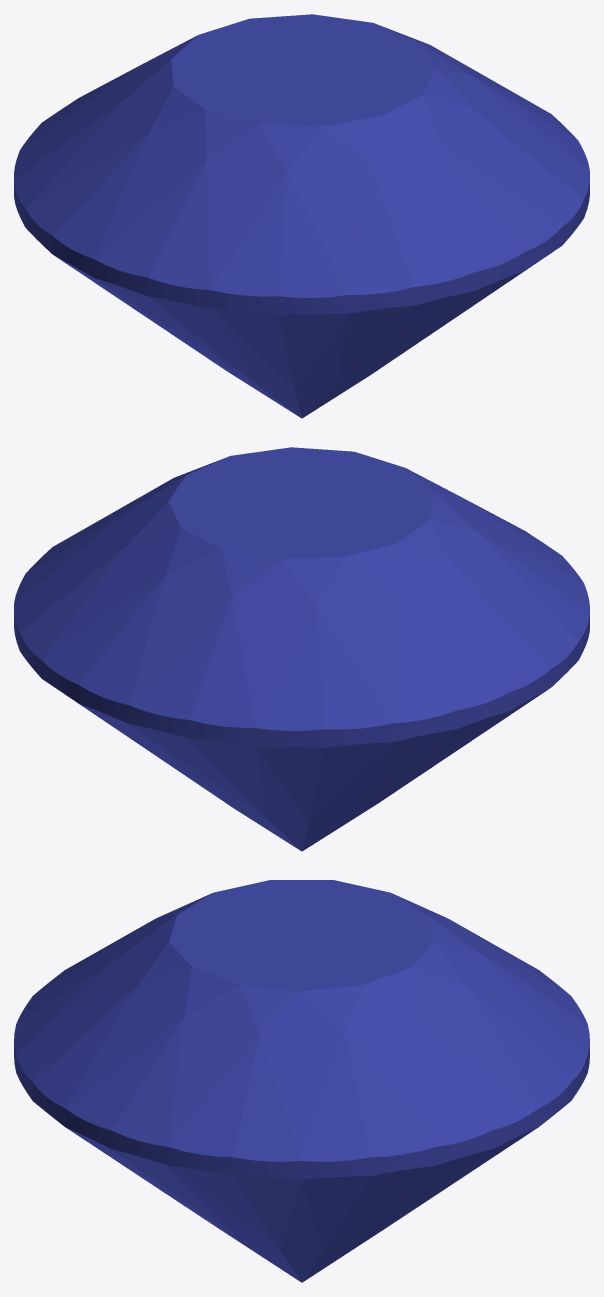
3 views of the same model, one above another, from view 1: azimuth 30°, elevation 25°; view 2: azimuth 150°, elevation 25°; view 3: azimuth 270°, elevation 25° (orthographic).
Visible parts, largest first — view 1: dobj_2; view 2: dobj_2; view 3: dobj_2.
Part boxes in pixels (left/top/right/bottom): dobj_2: left=14, top=14, right=589, bottom=418; dobj_2: left=14, top=447, right=589, bottom=851; dobj_2: left=14, top=880, right=589, bottom=1282.
Size of the model in its own units: 2 by 1.33 by 2.
